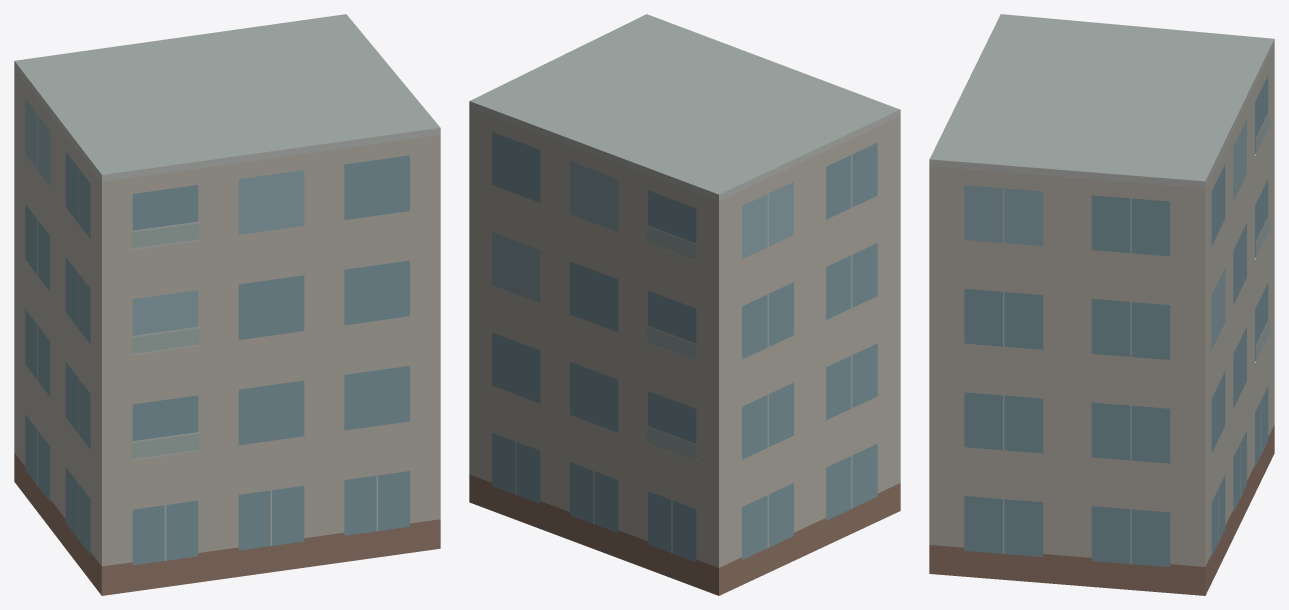
Rendered from survey-upis-32817911.glb.
The picture shows the model from 3 angles, left to right: view 1: azimuth 30°, elevation 25°; view 2: azimuth 150°, elevation 25°; view 3: azimuth 270°, elevation 25°; orthographic projection. The views are drawn at different scales.
Visible parts, largest first — view 1: survey-upis-32817911.tmp; view 2: survey-upis-32817911.tmp; view 3: survey-upis-32817911.tmp.
Boxes of the visible parts, bbox=[...] form: survey-upis-32817911.tmp: bbox=[14, 14, 440, 595]; survey-upis-32817911.tmp: bbox=[469, 14, 900, 595]; survey-upis-32817911.tmp: bbox=[929, 14, 1274, 595].
Size of the model in its own units: 12.83 by 14.8 by 11.18.
